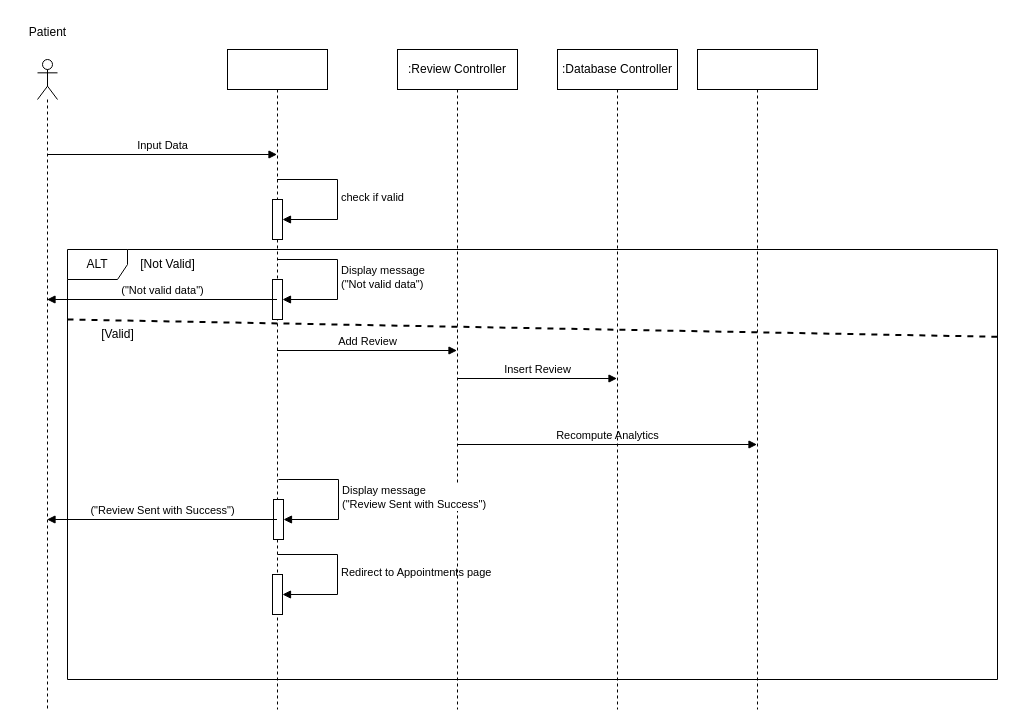
Some shapes in this 1017 by 727 pixel diagram are drawn without their labels. The shapes that lost their labels are listed below. From the top down, each one's box as (x1, y1, x2, y2) in pixels, then its label:
(226, 48, 328, 710): :Review Page
(696, 48, 818, 710): :Analytics Controller
